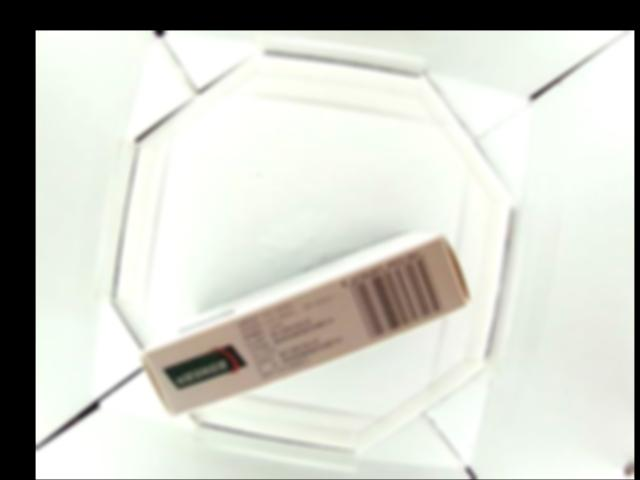Medicine: (139, 234, 470, 415)
